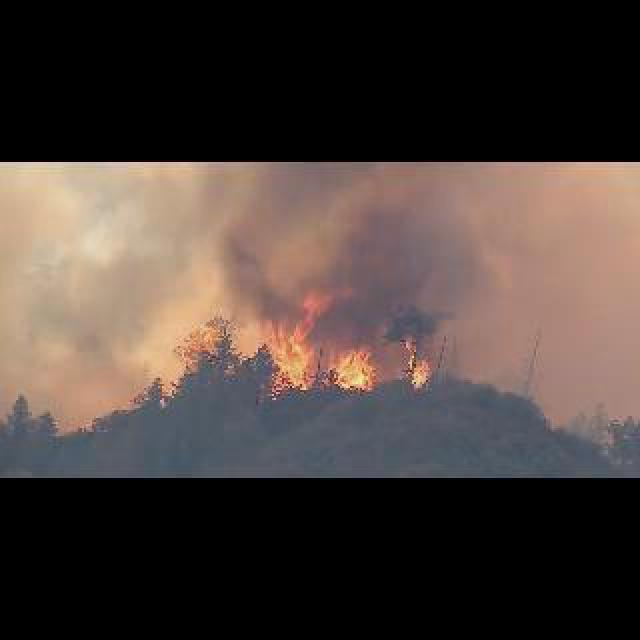Fire: (258, 290, 320, 396), (326, 340, 378, 392), (400, 336, 438, 392)
Smoke: (174, 162, 490, 338)
